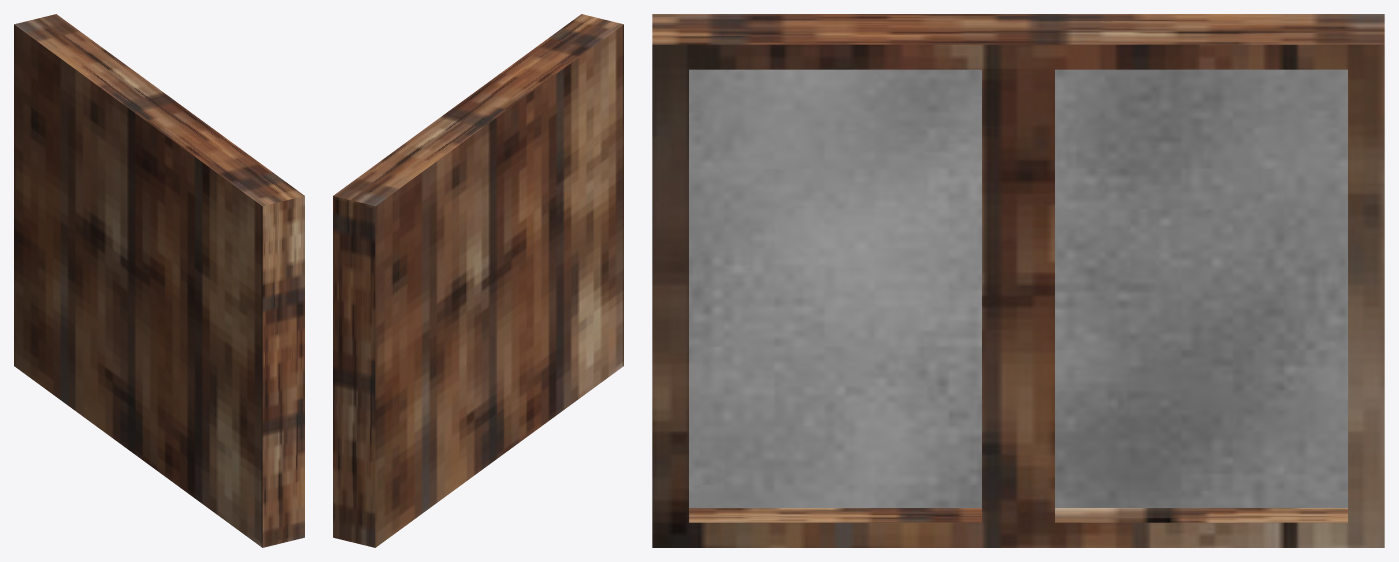
Rendered from window.fbx.
The picture shows the model from 3 angles, left to right: view 1: azimuth 30°, elevation 25°; view 2: azimuth 150°, elevation 25°; view 3: azimuth 270°, elevation 25°; orthographic projection. The views are drawn at different scales.
Parts seen in each view (by area): view 1: window; view 2: window; view 3: window.
Part boxes in pixels (x1,y1,x2,y2): window: (14,14,304,547); window: (333,14,623,547); window: (652,14,1384,547).
Size of the model in its own units: 41.61 by 320 by 422.
